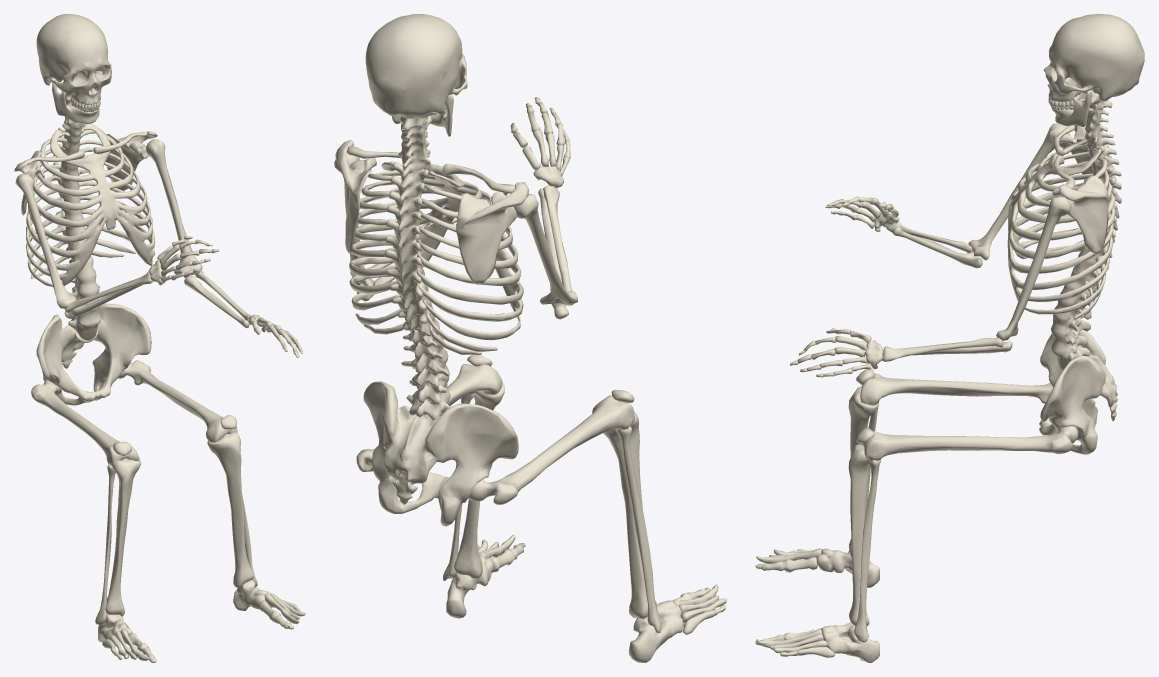
Rendered from skeleton_sitting.glb.
The picture shows the model from 3 angles, left to right: view 1: azimuth 30°, elevation 25°; view 2: azimuth 150°, elevation 25°; view 3: azimuth 270°, elevation 25°; orthographic projection. The views are drawn at different scales.
Visible parts, largest first — view 1: torso_arms, pelvis_legs, head_skull; view 2: torso_arms, pelvis_legs, head_skull; view 3: torso_arms, pelvis_legs, head_skull.
Part boxes in pixels (<box>): torso_arms: <box>14,90,302,357</box>; pelvis_legs: <box>31,303,305,662</box>; head_skull: <box>36,14,111,124</box>; torso_arms: <box>334,97,577,420</box>; pelvis_legs: <box>356,355,726,662</box>; head_skull: <box>365,14,467,136</box>; torso_arms: <box>790,90,1121,377</box>; pelvis_legs: <box>755,329,1117,662</box>; head_skull: <box>1043,14,1144,126</box>.
Bounding box in the file's own units: 0.5405 × 1.39 × 0.8059.
